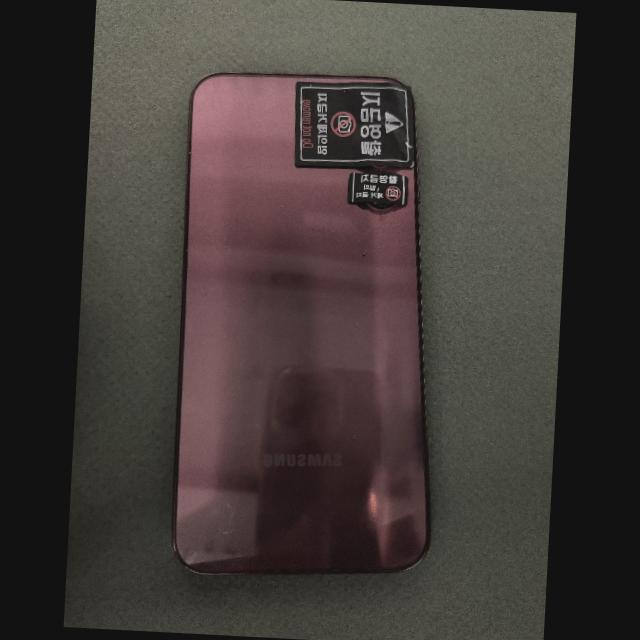phone: (174, 74, 429, 574)
sticker: (296, 82, 414, 169), (348, 173, 409, 207)
